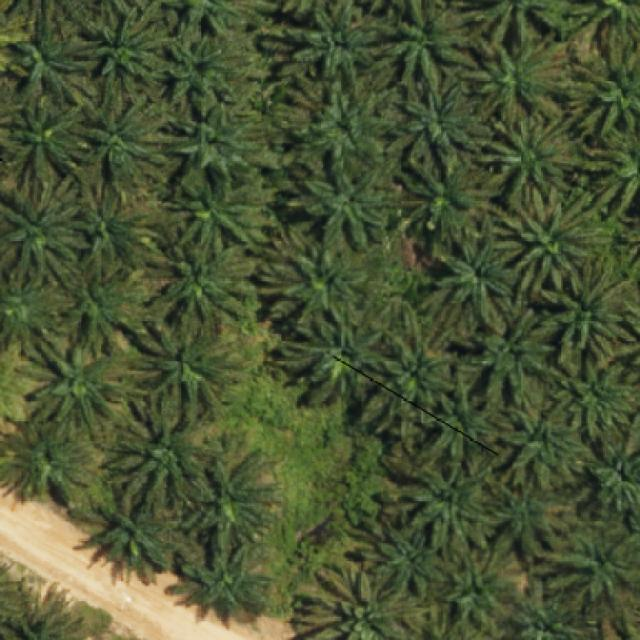Kelapa_Sawit: (373, 435, 507, 560), (117, 297, 246, 426), (487, 182, 619, 302), (106, 389, 225, 522), (357, 299, 461, 447), (266, 66, 400, 180), (252, 222, 372, 340), (146, 223, 265, 339), (448, 302, 567, 418), (67, 88, 182, 203), (279, 150, 401, 258), (272, 295, 385, 411), (24, 332, 138, 445), (419, 214, 523, 335), (256, 0, 384, 97), (182, 444, 286, 562), (155, 97, 277, 197), (535, 252, 639, 368), (458, 31, 580, 128), (475, 108, 591, 210), (476, 467, 582, 578), (165, 164, 282, 264), (74, 8, 188, 109), (348, 508, 464, 606), (0, 166, 95, 284), (487, 392, 593, 497), (389, 152, 505, 246), (74, 182, 174, 288), (398, 70, 496, 178), (6, 9, 105, 114), (3, 408, 99, 514), (57, 260, 152, 365), (158, 22, 257, 120), (0, 94, 97, 194), (76, 491, 172, 589), (171, 534, 280, 615), (427, 549, 524, 640), (537, 352, 640, 437)
